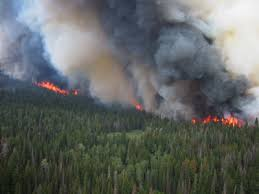fire: (187, 107, 247, 137), (34, 75, 84, 101)
